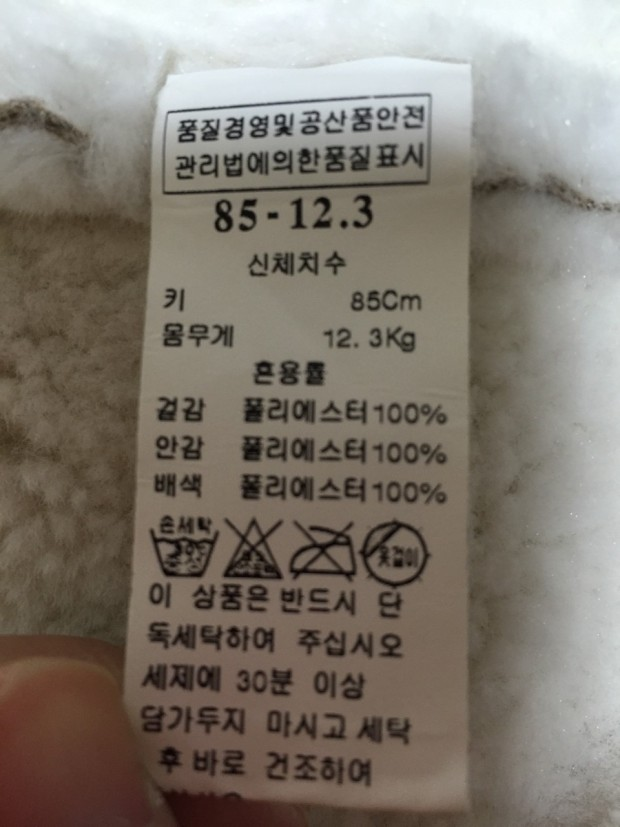KR_hand_wash_30_neutral: (149, 507, 221, 580)
KR_hang_dry_in_shade: (359, 511, 430, 587)
KR_no_bleach: (223, 516, 284, 585)
KR_no_iron: (288, 515, 360, 581)
